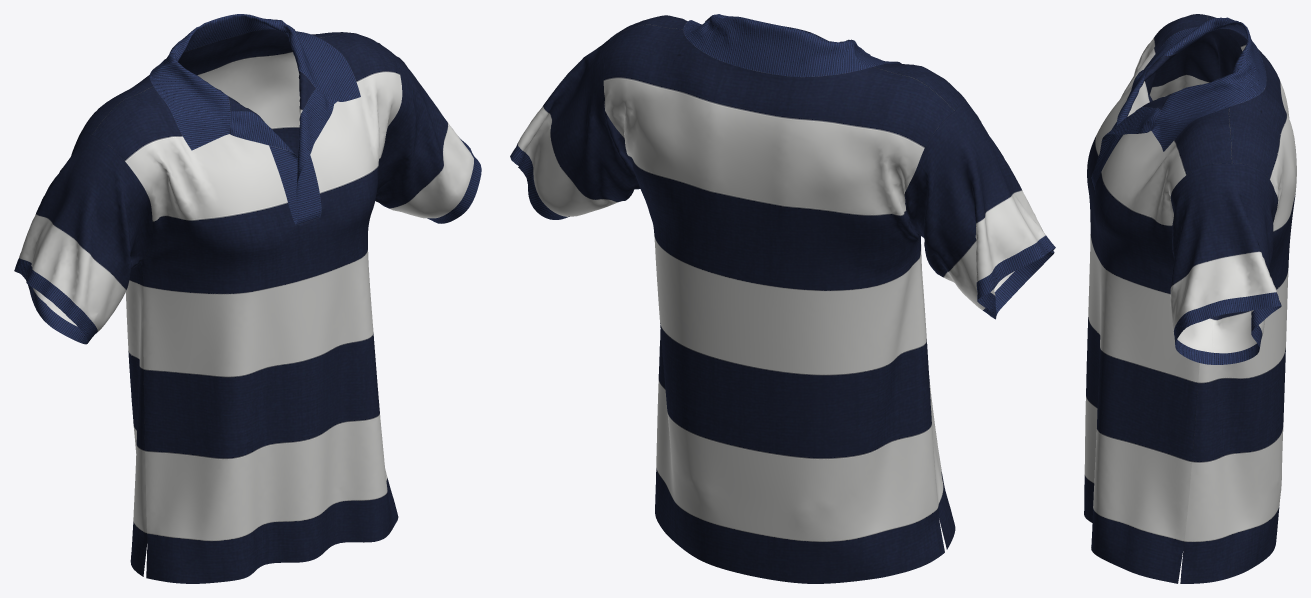
3 views of the same model, side by side, from view 1: azimuth 30°, elevation 25°; view 2: azimuth 150°, elevation 25°; view 3: azimuth 270°, elevation 25° (orthographic). The views are drawn at different scales.
Visible parts, largest first — view 1: AM_102_035_003; view 2: AM_102_035_003; view 3: AM_102_035_003.
Part boxes in pixels (x1,y1,x2,y2): AM_102_035_003: (14,14,481,583); AM_102_035_003: (510,14,1055,583); AM_102_035_003: (1084,14,1296,583).
Size of the model in its own units: 71.86 by 75.6 by 29.33.
1 material, 1 textured.
